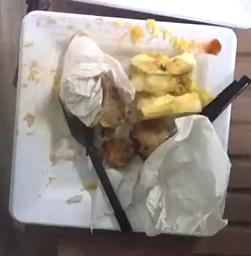fries: (129, 52, 211, 117)
unknown: (94, 118, 176, 167)
